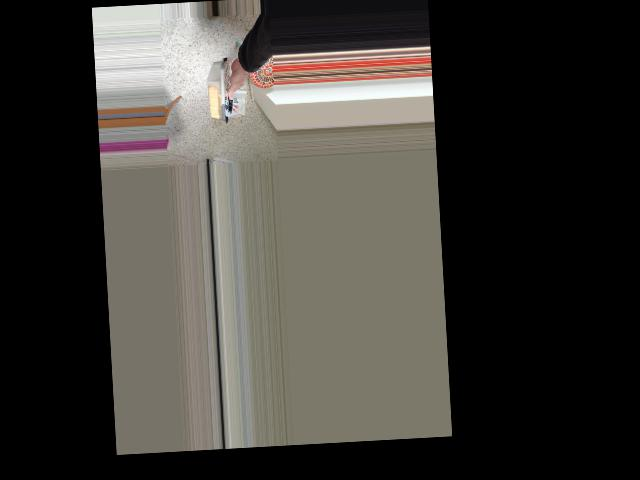cheese: (200, 51, 269, 123)
